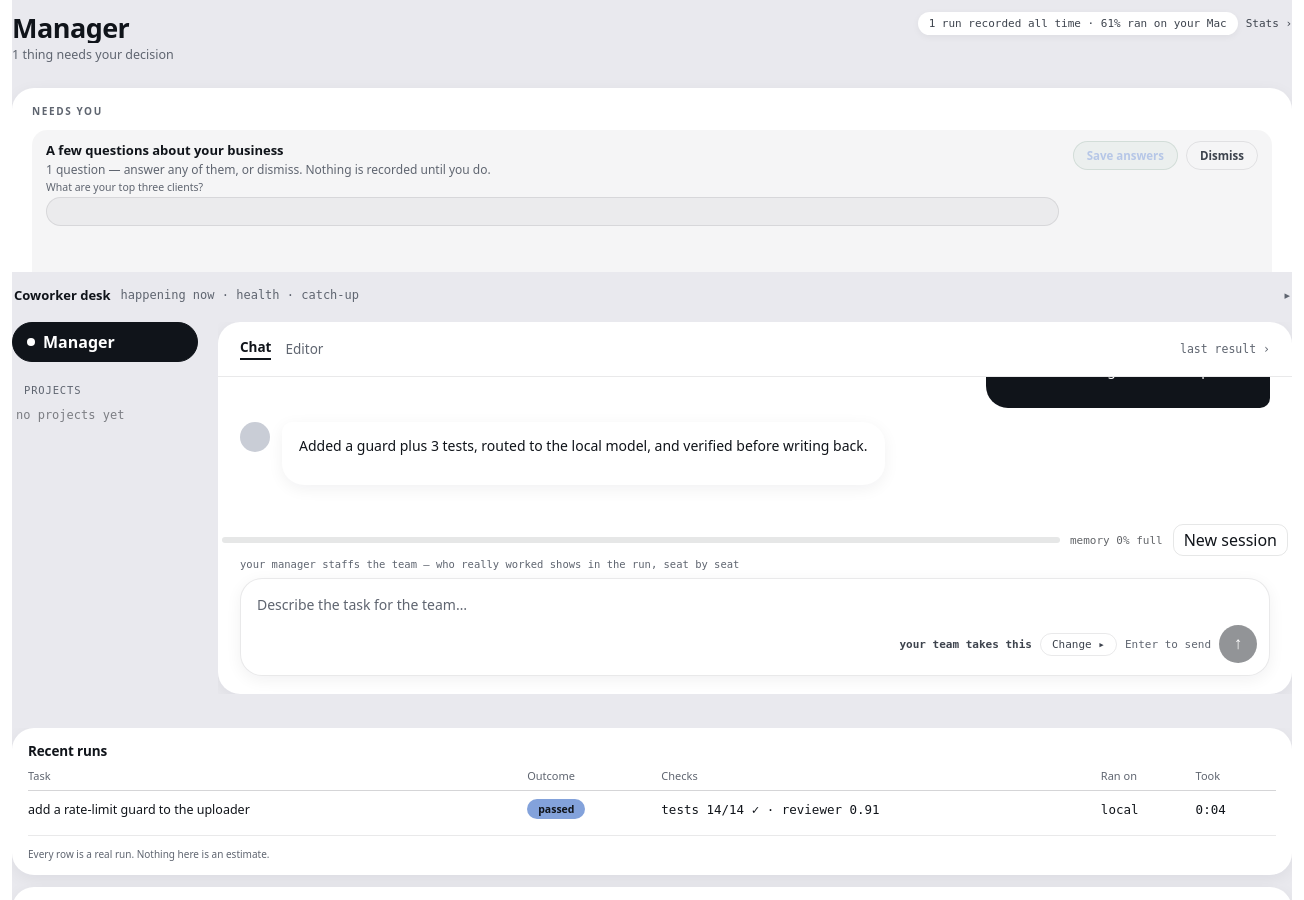
Test: the Work page desk — what is counted must be visible › the collapsed toggle never advertises the needs count — its click reveals the ambient slice, not the decision
(page scrolled)
Expected: the button "coworker desk" does not show "needs your decision"
What coordinates should you click on to do the following:
click the button "Coworker desk happening now · health · catch-up ▸"
I would click on:
 (62, 295)
Its box is [12, 282, 1292, 308].
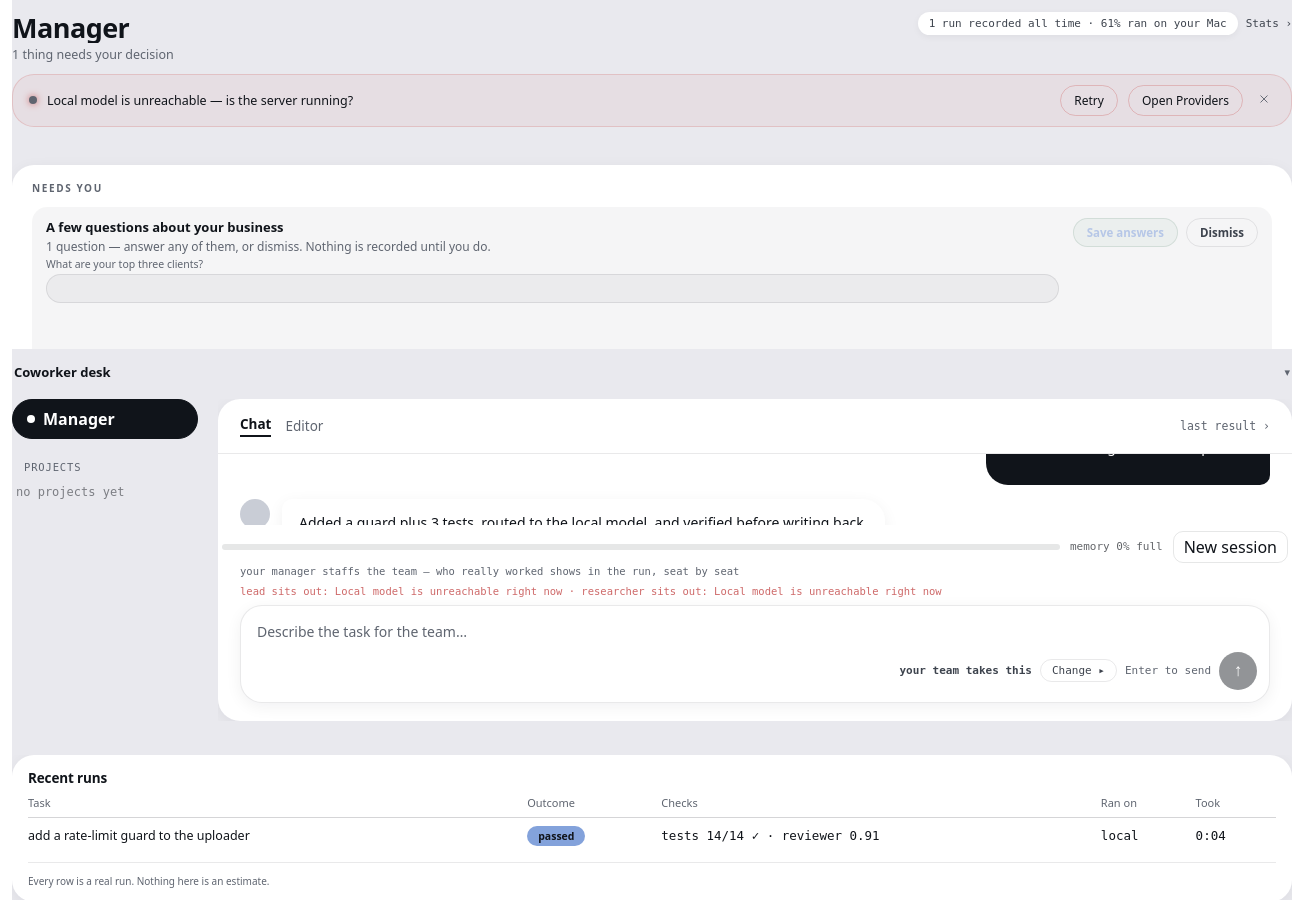
Expected: the button "Coworker desk ▾" is expanded, [12, 358, 1292, 384]
